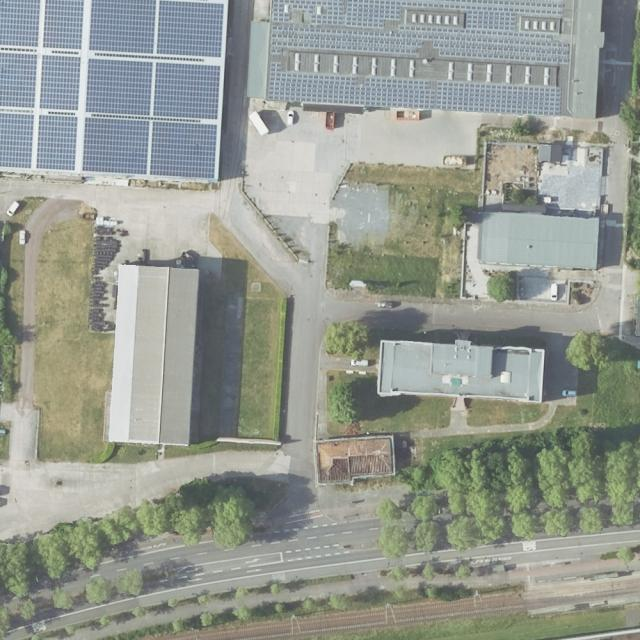PV: (270, 0, 569, 64), (268, 62, 561, 115), (157, 1, 224, 58), (86, 59, 153, 116), (83, 118, 149, 174), (151, 122, 217, 178), (154, 63, 220, 119), (89, 0, 156, 54), (38, 55, 81, 110), (37, 115, 77, 171), (43, 0, 84, 48), (0, 53, 36, 107), (0, 0, 40, 47), (0, 113, 34, 168)
